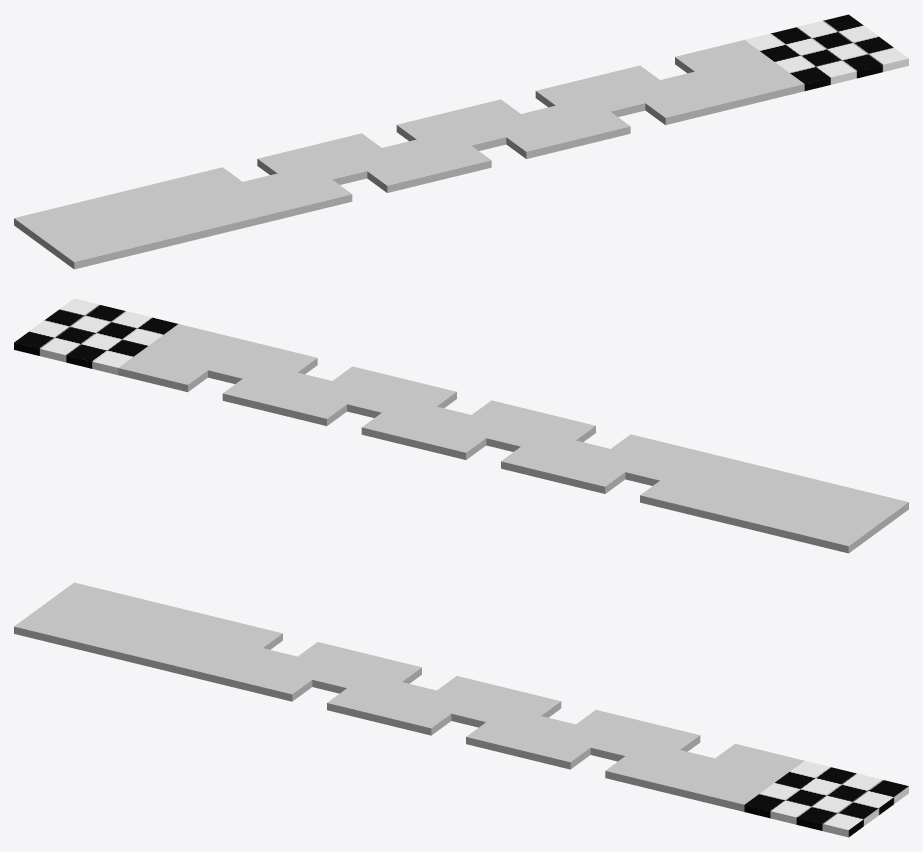
File: BaseLVL.fbx
The picture shows the model from 3 angles, top to bottom: view 1: azimuth 30°, elevation 25°; view 2: azimuth 150°, elevation 25°; view 3: azimuth 330°, elevation 25°; orthographic projection.
Visible parts, largest first — view 1: Main, Finish; view 2: Main, Finish; view 3: Main, Finish.
Part boxes in pixels (x1,y1,x2,y2): Main: (14,40,804,269); Finish: (745,14,908,90); Main: (118,324,908,553); Finish: (14,298,177,374); Main: (14,582,803,811); Finish: (744,760,908,837).
Bounding box in the file's own units: 2400 × 20 × 300.
1 material, 1 textured.
